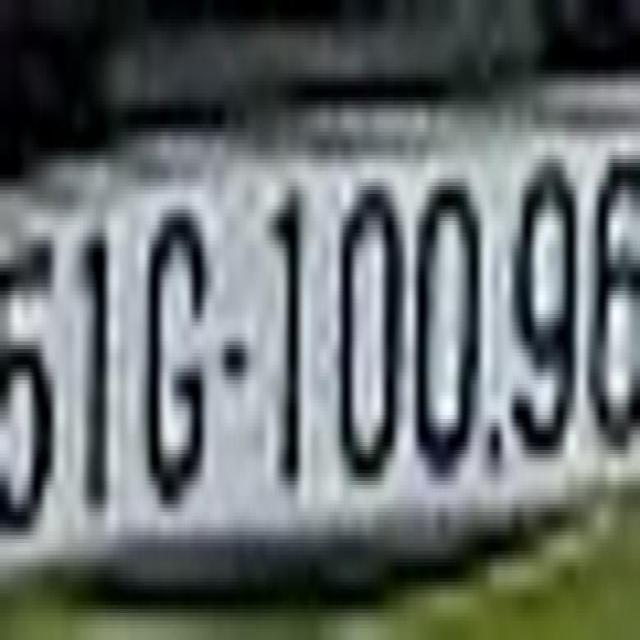0: (410, 101, 481, 496), (331, 105, 400, 508)
1: (70, 194, 124, 547), (264, 124, 314, 500)
5: (1, 194, 55, 547)
6: (584, 78, 639, 470)
9: (510, 101, 580, 473)
G: (143, 175, 209, 512)
